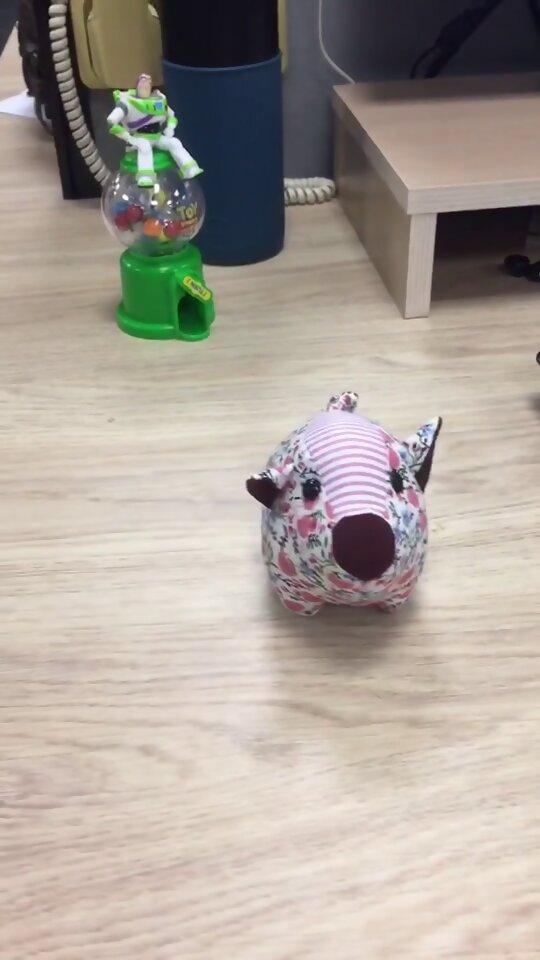pig: (242, 386, 443, 624)
